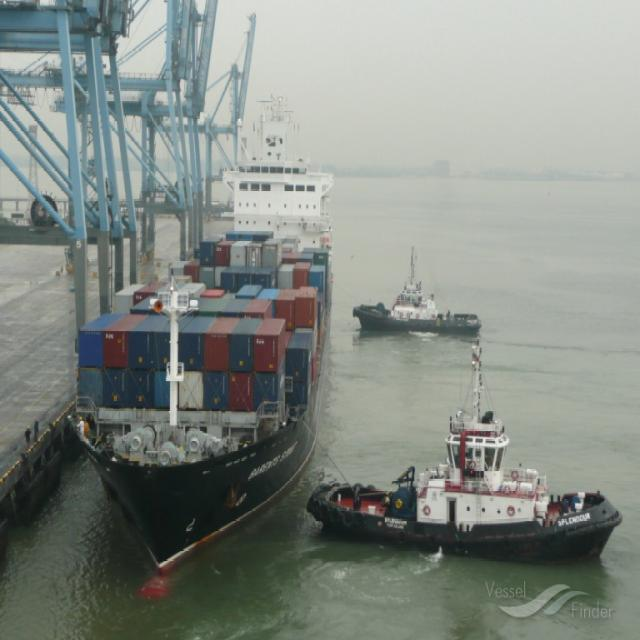Container Ship: (72, 124, 332, 594)
tugboat: (309, 420, 621, 566), (350, 264, 485, 345)
